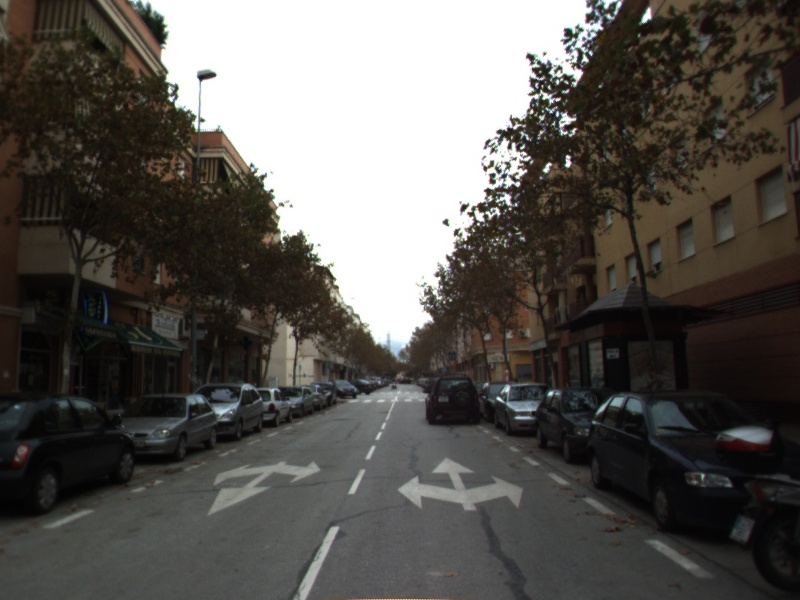STRAIGHT_LEFT_RIGHT: (395, 455, 525, 513)
